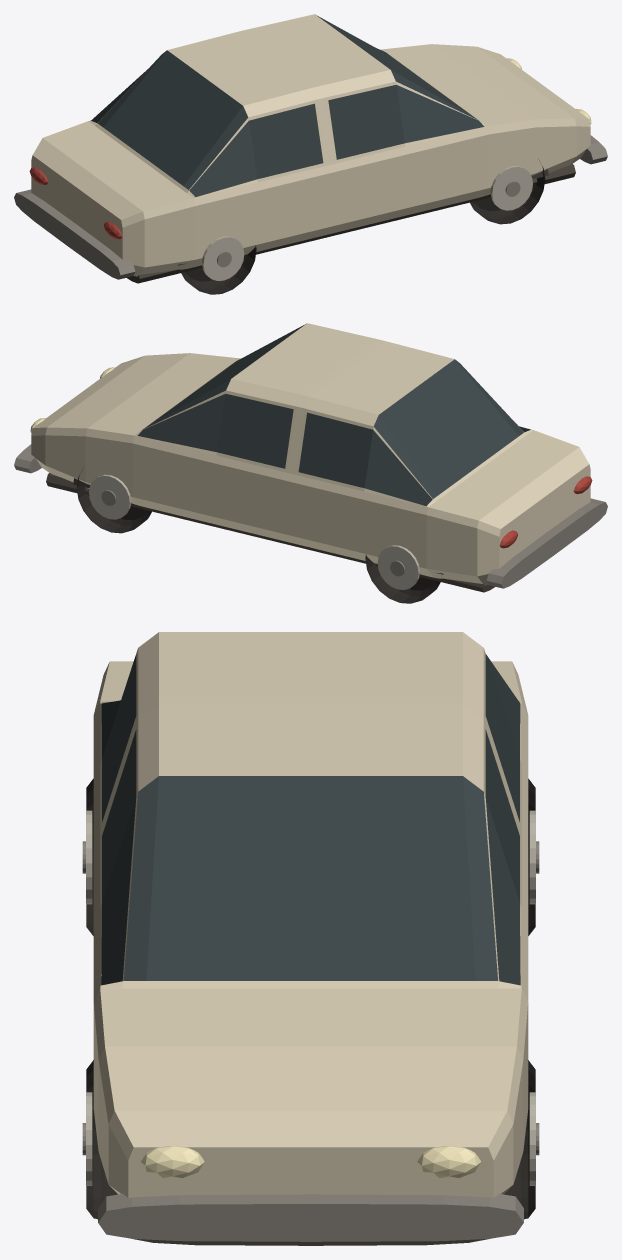
The model's file is sedan-krem.glb.
3 renders of one model, top to bottom at view 1: azimuth 30°, elevation 25°; view 2: azimuth 150°, elevation 25°; view 3: azimuth 270°, elevation 25°, orthographic. The views are drawn at different scales.
Parts seen in each view (by area): view 1: a_krem, cam, tampon, jant, lastik, ic, stop; view 2: a_krem, cam, tampon, jant, lastik, ic, stop; view 3: a_krem, cam, tampon, lastik, far, jant, ic.
Part boxes in pixels (x1,y1,x2,y2): a_krem: [31, 14, 590, 276]; cam: [91, 14, 484, 197]; tampon: [14, 135, 607, 279]; jant: [202, 165, 532, 280]; lastik: [181, 159, 545, 294]; ic: [126, 163, 575, 283]; stop: [29, 167, 122, 239]; a_krem: [31, 323, 590, 585]; cam: [137, 323, 530, 506]; tampon: [14, 444, 607, 588]; jant: [89, 474, 419, 589]; lastik: [76, 468, 440, 603]; ic: [46, 472, 495, 592]; stop: [499, 476, 592, 548]; a_krem: [93, 632, 528, 1197]; cam: [101, 654, 520, 985]; tampon: [82, 841, 539, 1241]; lastik: [86, 778, 535, 1219]; far: [141, 1146, 480, 1178]; jant: [86, 810, 535, 1185]; ic: [104, 1172, 517, 1245].
Bounding box in the file's own units: 4.56 × 1.51 × 1.85.
